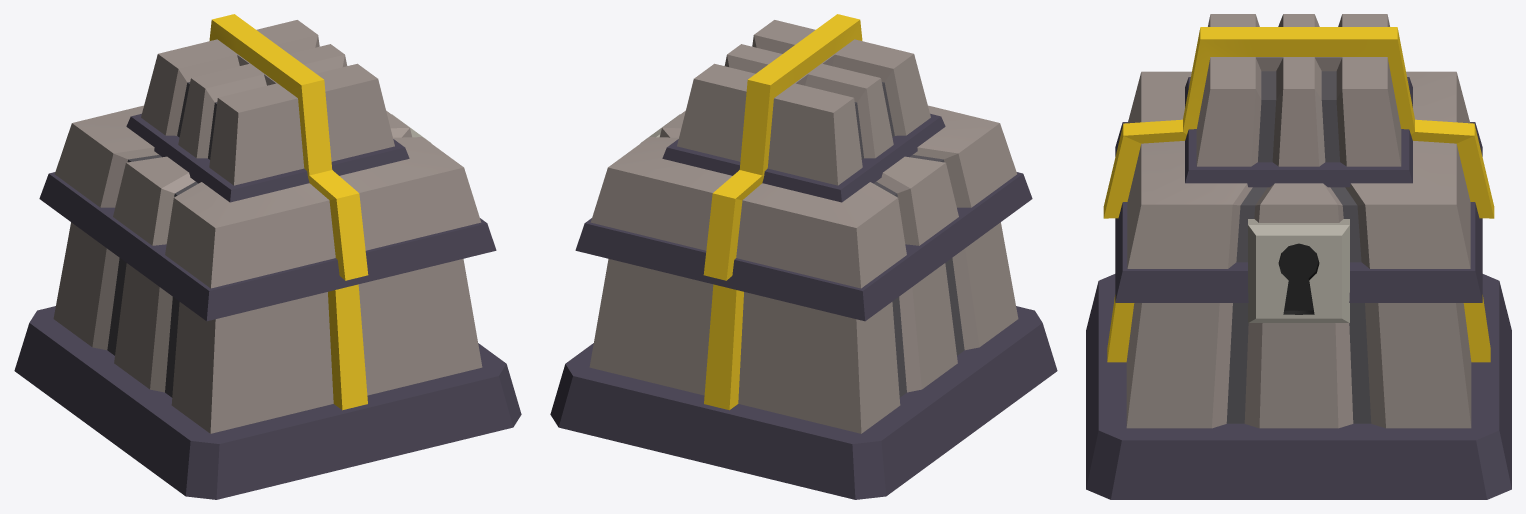
The model's file is SM_Chest.fbx.
3 views of the same model, side by side, from view 1: azimuth 30°, elevation 25°; view 2: azimuth 150°, elevation 25°; view 3: azimuth 270°, elevation 25° (orthographic). The views are drawn at different scales.
Parts seen in each view (by area): view 1: Cube.027; view 2: Cube.027; view 3: Cube.027.
Part boxes in pixels (x1,y1,x2,y2): Cube.027: [14, 14, 521, 499]; Cube.027: [550, 14, 1057, 499]; Cube.027: [1086, 14, 1511, 499].
Size of the model in its own units: 106 by 103 by 106.
